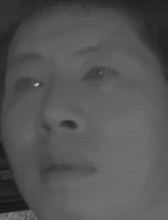eye: (81, 61, 123, 90), (8, 72, 46, 98)
mouth: (34, 147, 100, 188)
